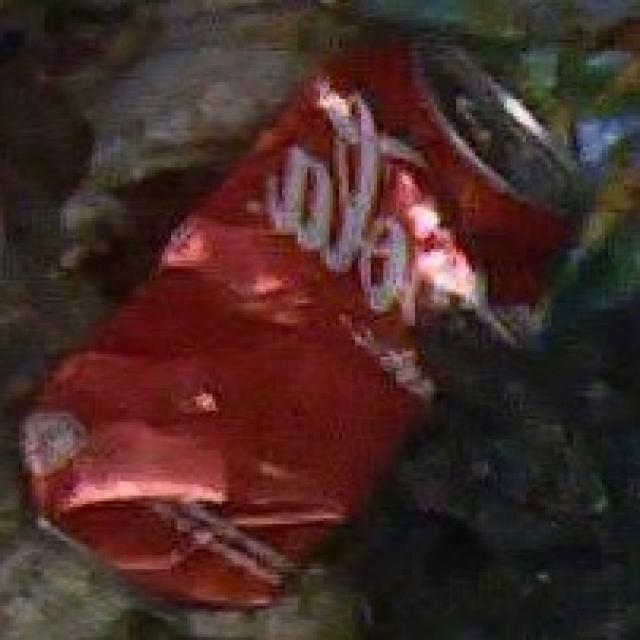litter: (31, 41, 583, 609)
